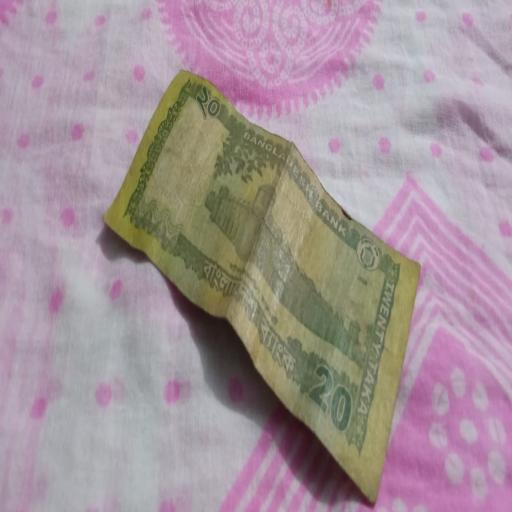20taka: (103, 71, 422, 503)
